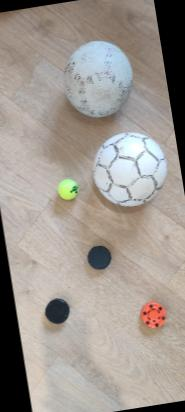Football size 5: (80, 121, 175, 218), (54, 32, 140, 127)
hockey puck: (83, 238, 114, 273), (40, 295, 73, 327), (136, 299, 168, 331)
tennis: (52, 176, 82, 206)
